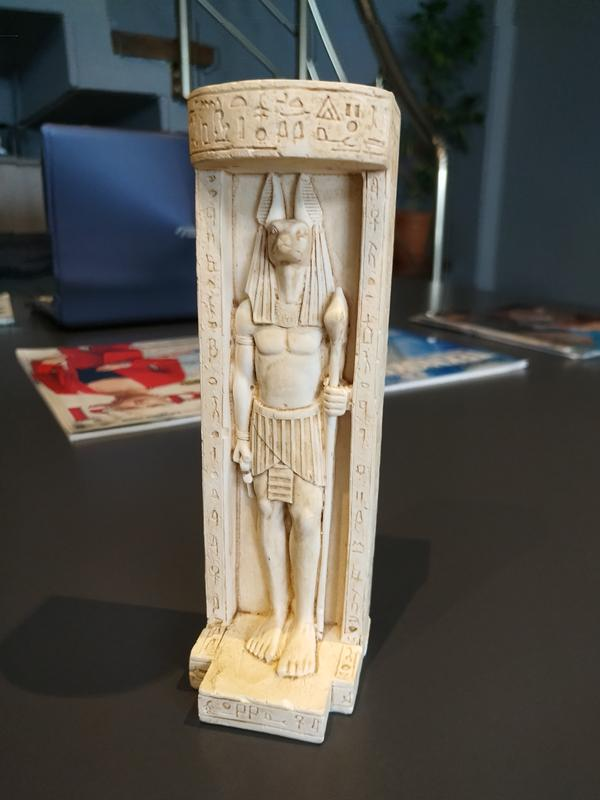heykel: (180, 75, 410, 751)
